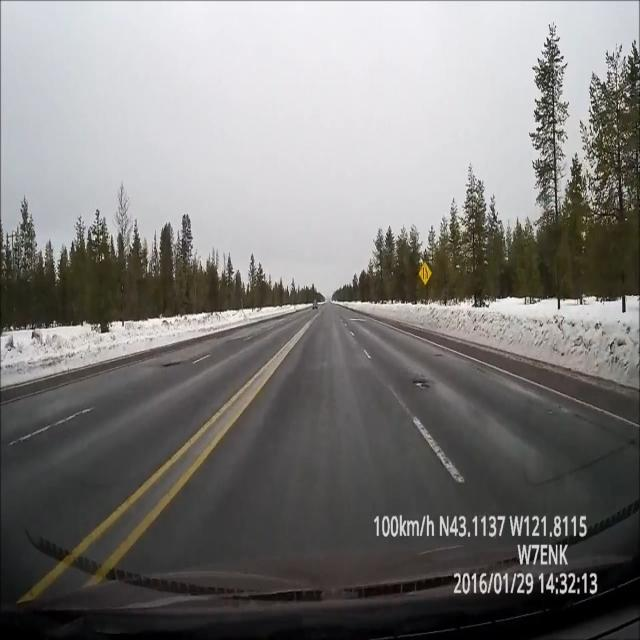Pothole: (408, 367, 434, 398)
